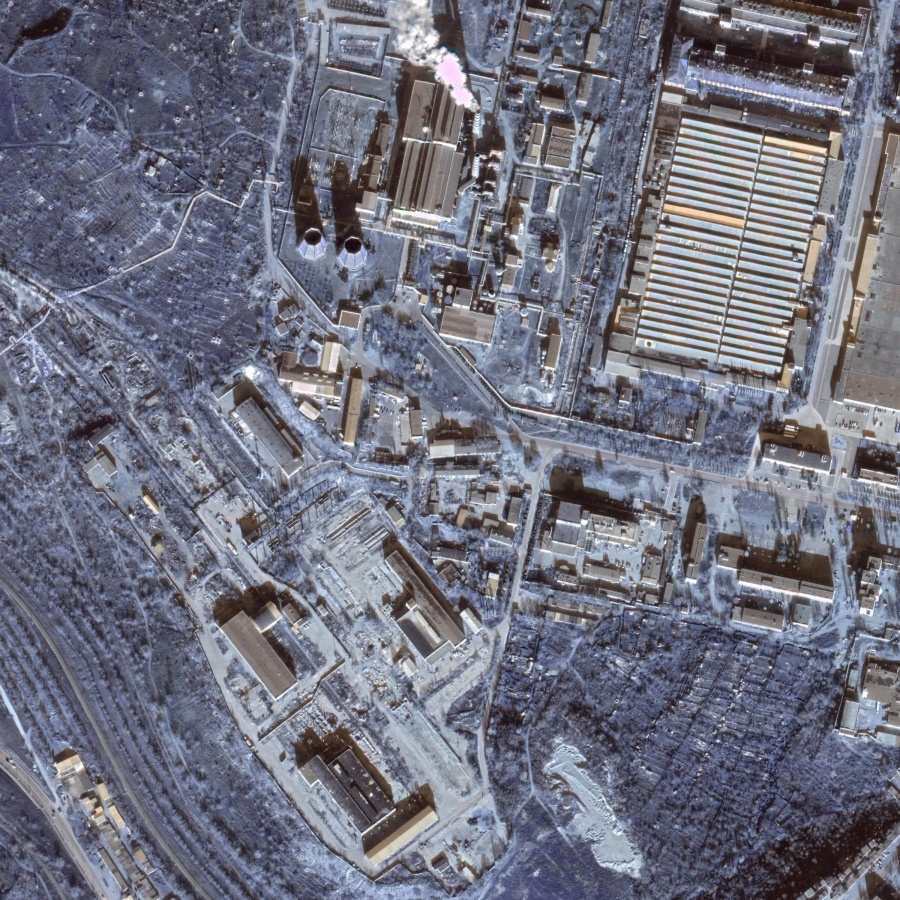PowerPlant: (284, 21, 507, 282)
